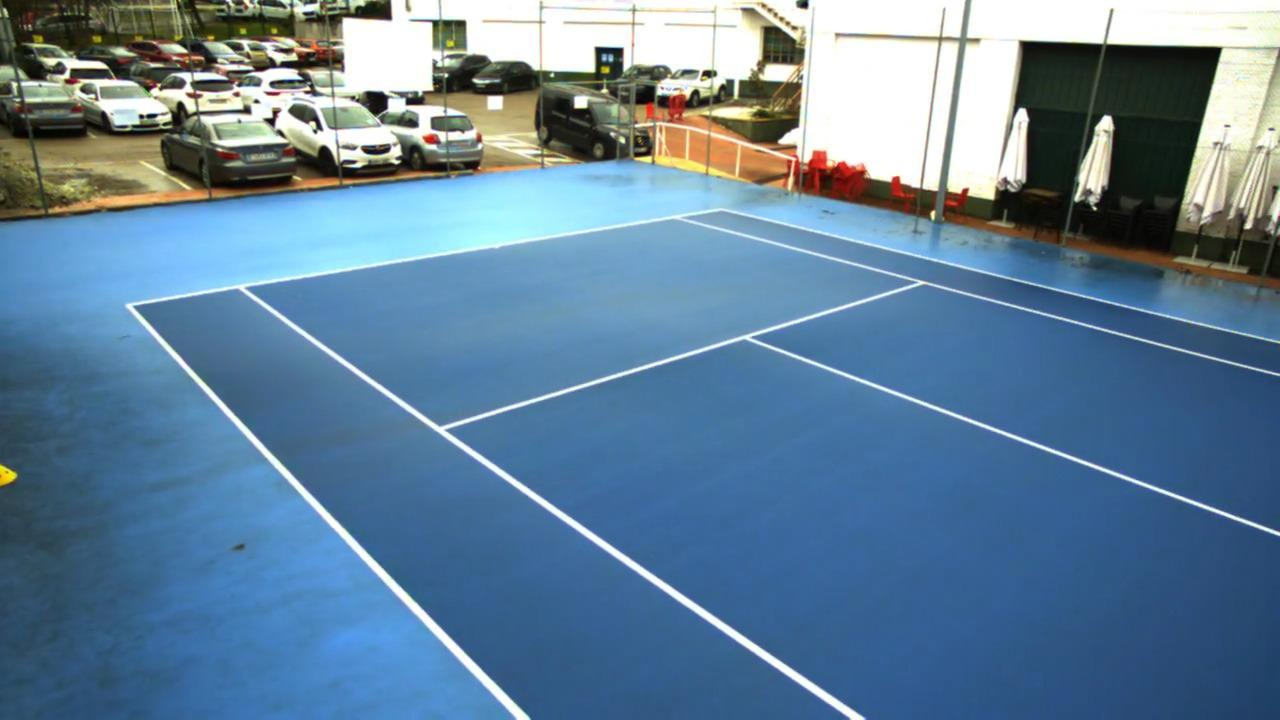cancha_tenis: (240, 216, 1280, 720)
point_f1: (229, 276, 260, 300)
point_f2: (659, 205, 695, 230)
point_fc1: (486, 241, 505, 255)
point_i1: (423, 417, 466, 444)
point_i2: (902, 270, 934, 295)
point_ic1: (733, 326, 768, 351)
